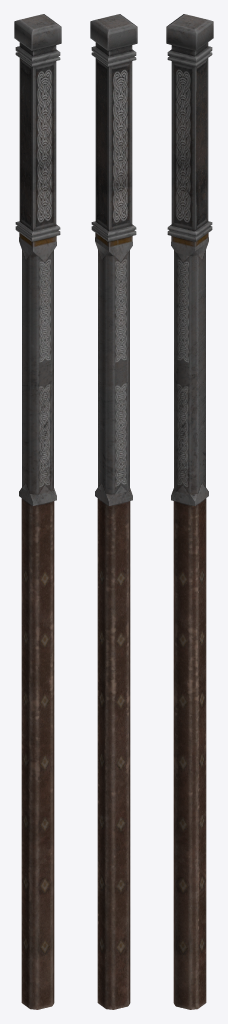
Rendered from sm_dwarf_erebor_axe_handle_2h_a.fbx.
3 renders of one model, left to right at view 1: azimuth 30°, elevation 25°; view 2: azimuth 210°, elevation 25°; view 3: azimuth 330°, elevation 25°, orthographic.
Visible parts, largest first — view 1: sm_dwarf_erebor_axe_handle_2h_a; view 2: sm_dwarf_erebor_axe_handle_2h_a; view 3: sm_dwarf_erebor_axe_handle_2h_a.
Part boxes in pixels (bbox=[...]): sm_dwarf_erebor_axe_handle_2h_a: bbox=[14, 14, 61, 1009]; sm_dwarf_erebor_axe_handle_2h_a: bbox=[90, 14, 137, 1009]; sm_dwarf_erebor_axe_handle_2h_a: bbox=[166, 14, 213, 1009].
Size of the model in its own units: 0.051 by 0.051 by 1.6.
Materials: 1 (1 with a texture image).
